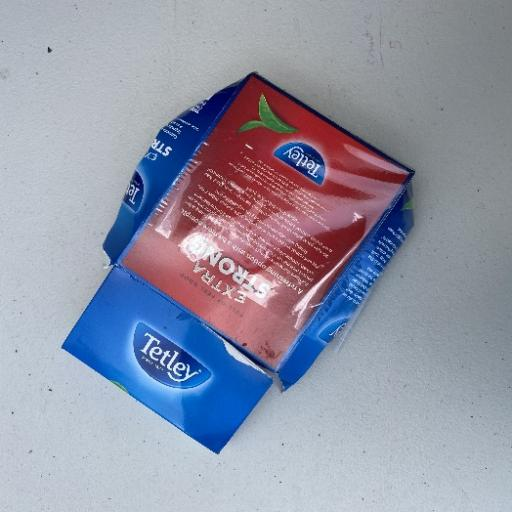Cardboard: (60, 70, 417, 454)
